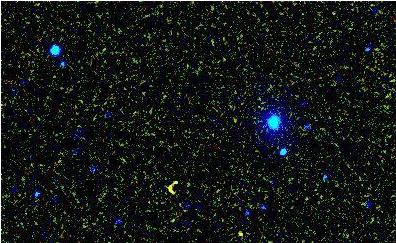star: (226, 218, 256, 243)
